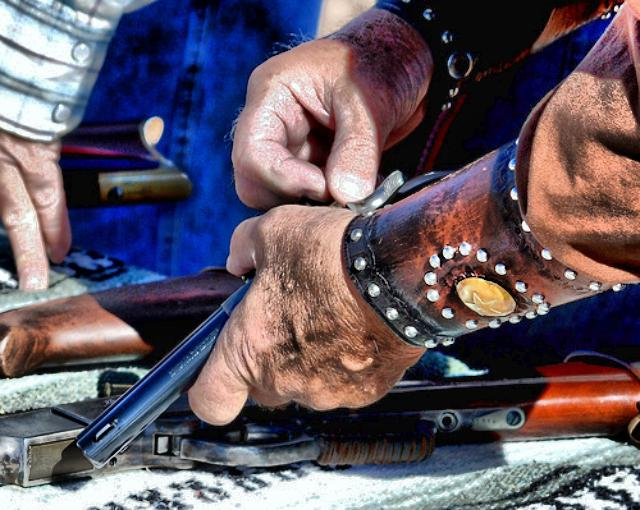pistol: (72, 169, 458, 465)
